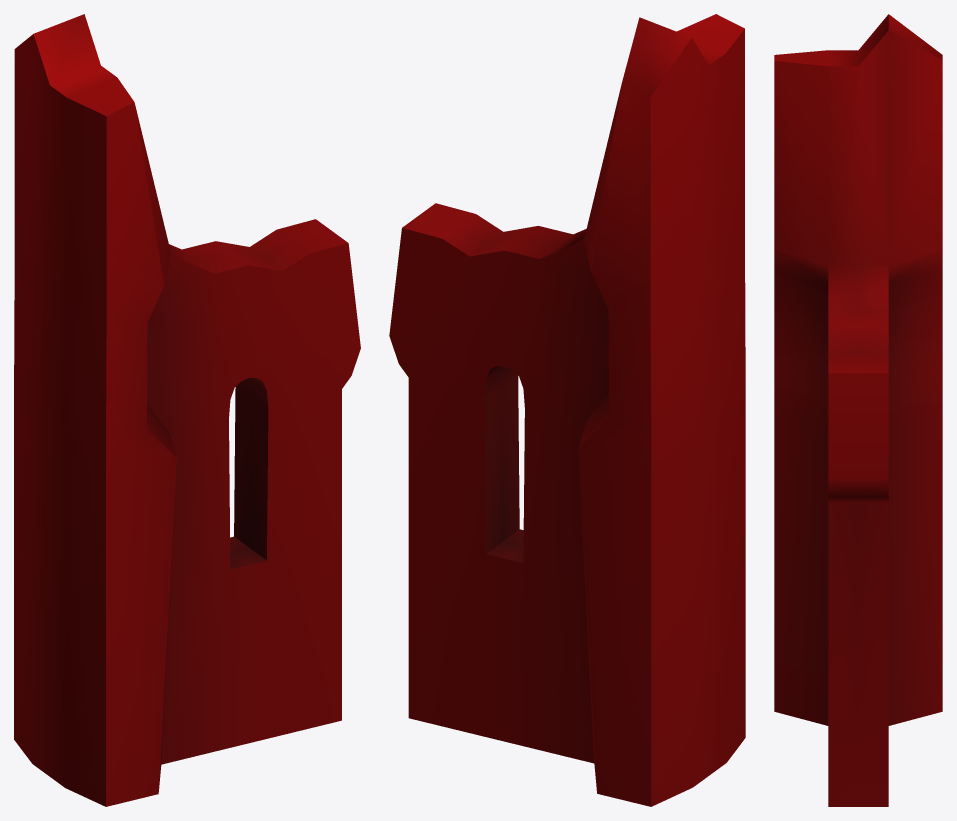
File: buildings-ruins-cathedralruins_v5.fbx
3 views of the same model, side by side, from view 1: azimuth 30°, elevation 25°; view 2: azimuth 150°, elevation 25°; view 3: azimuth 270°, elevation 25° (orthographic). The views are drawn at different scales.
Visible parts, largest first — view 1: CathedralRuins_v5; view 2: CathedralRuins_v5; view 3: CathedralRuins_v5.
Part boxes in pixels (x1=…): CathedralRuins_v5: x1=14, y1=14, x2=360, y2=806; CathedralRuins_v5: x1=389, y1=14, x2=745, y2=806; CathedralRuins_v5: x1=774, y1=14, x2=942, y2=806.
Bounding box in the file's own units: 5.87 × 13.99 × 3.16.
